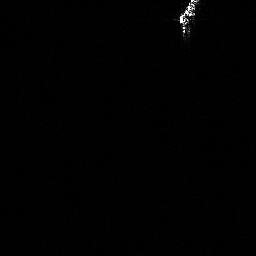ship: (177, 1, 201, 37)
